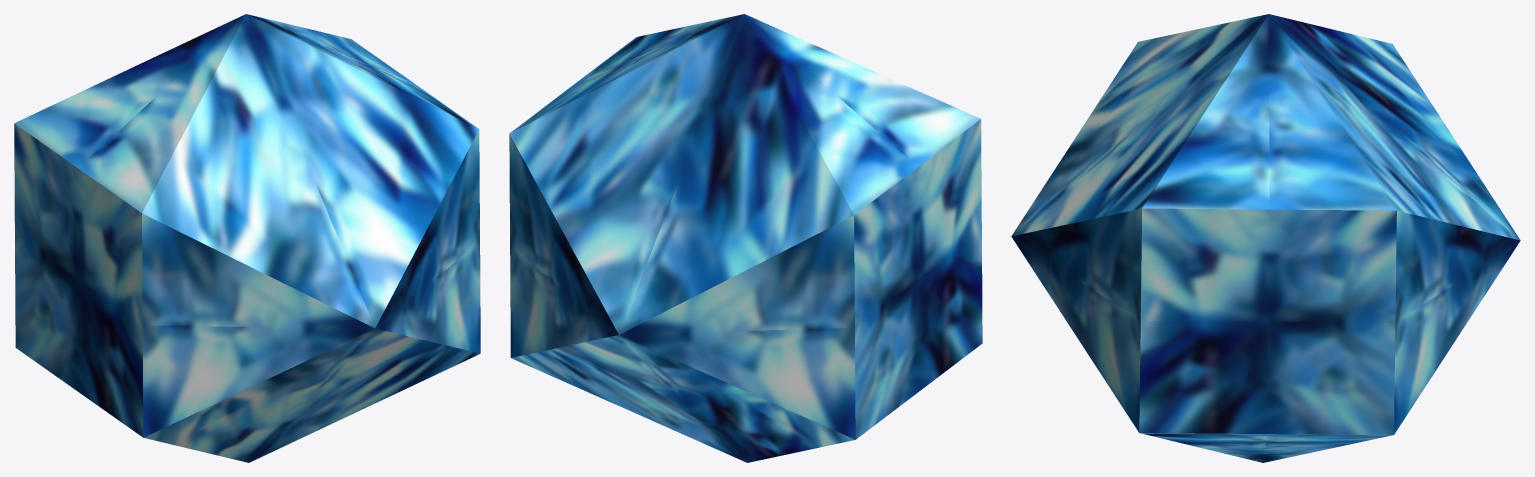
File: Ice_projectile.DAE
3 views of the same model, side by side, from view 1: azimuth 30°, elevation 25°; view 2: azimuth 150°, elevation 25°; view 3: azimuth 270°, elevation 25° (orthographic).
Parts seen in each view (by area): view 1: Hedra001; view 2: Hedra001; view 3: Hedra001.
Boxes of the visible parts, x1=… form: Hedra001: x1=14, y1=14, x2=480, y2=462; Hedra001: x1=509, y1=14, x2=982, y2=462; Hedra001: x1=1011, y1=14, x2=1520, y2=462.
Bounding box in the file's own units: 9.48 × 11.88 × 12.22.
Materials: 1 (1 with a texture image).
